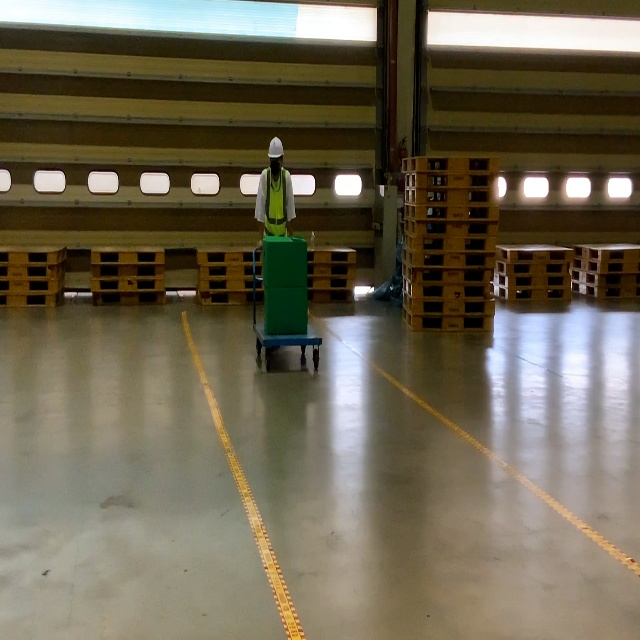Box: (262, 231, 308, 288), (264, 282, 308, 335)
Worker: (254, 136, 296, 351)
